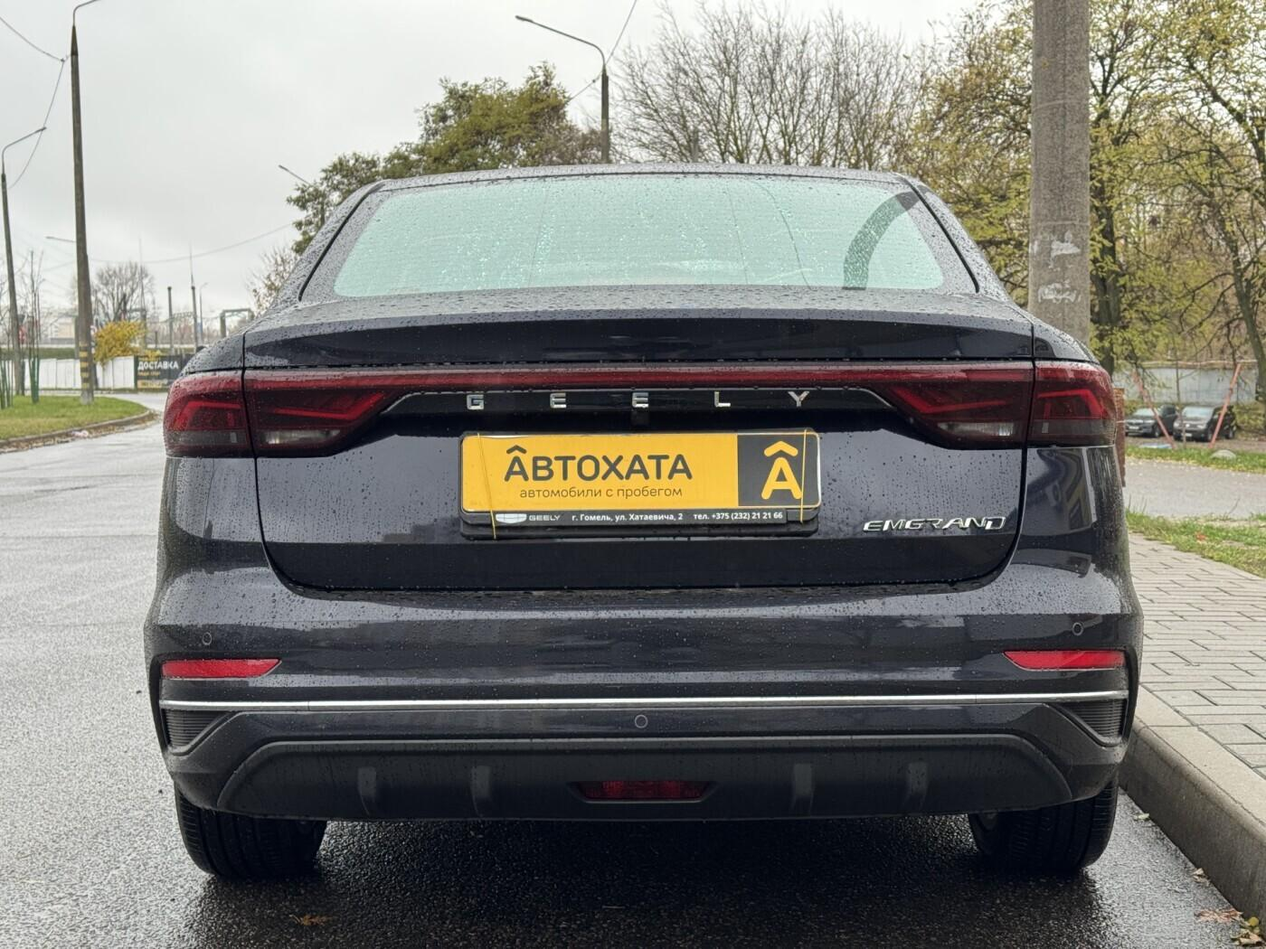Emgrand_2021: (147, 166, 1119, 874)
